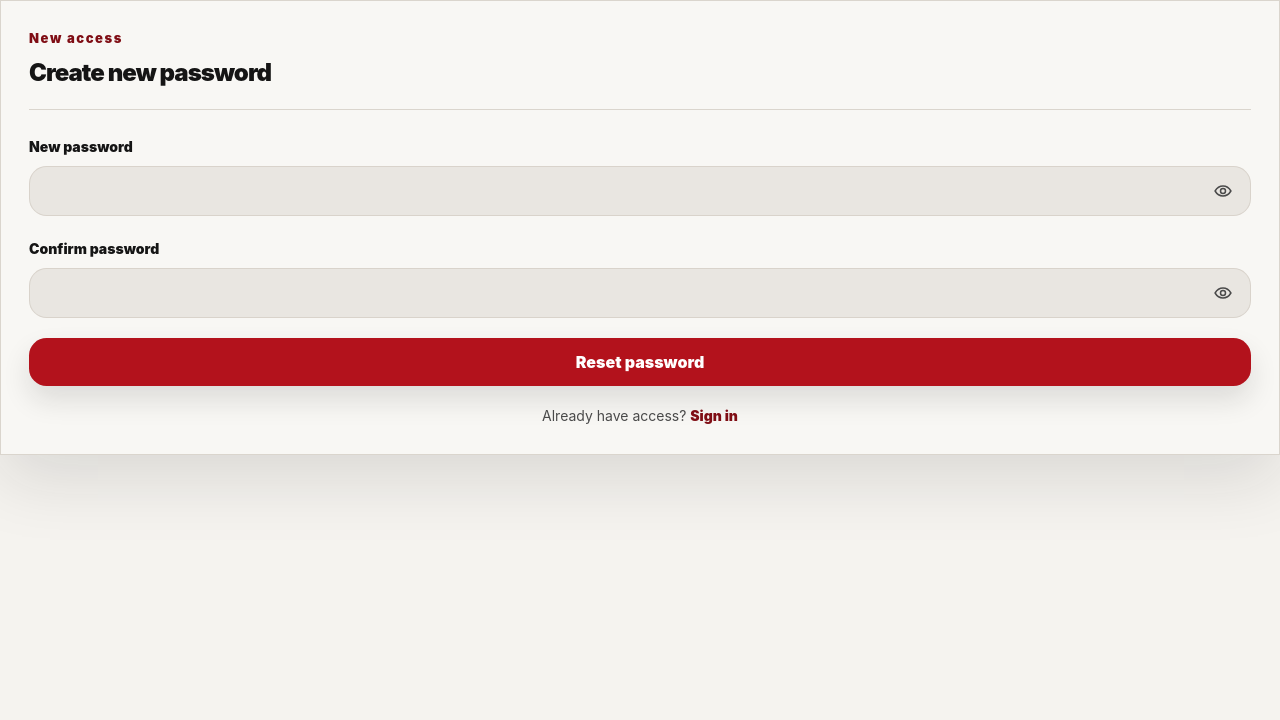
auth forms › shows reset password validation errors
Click the button "Reset password" at (640, 362), box [29,338,1251,386]
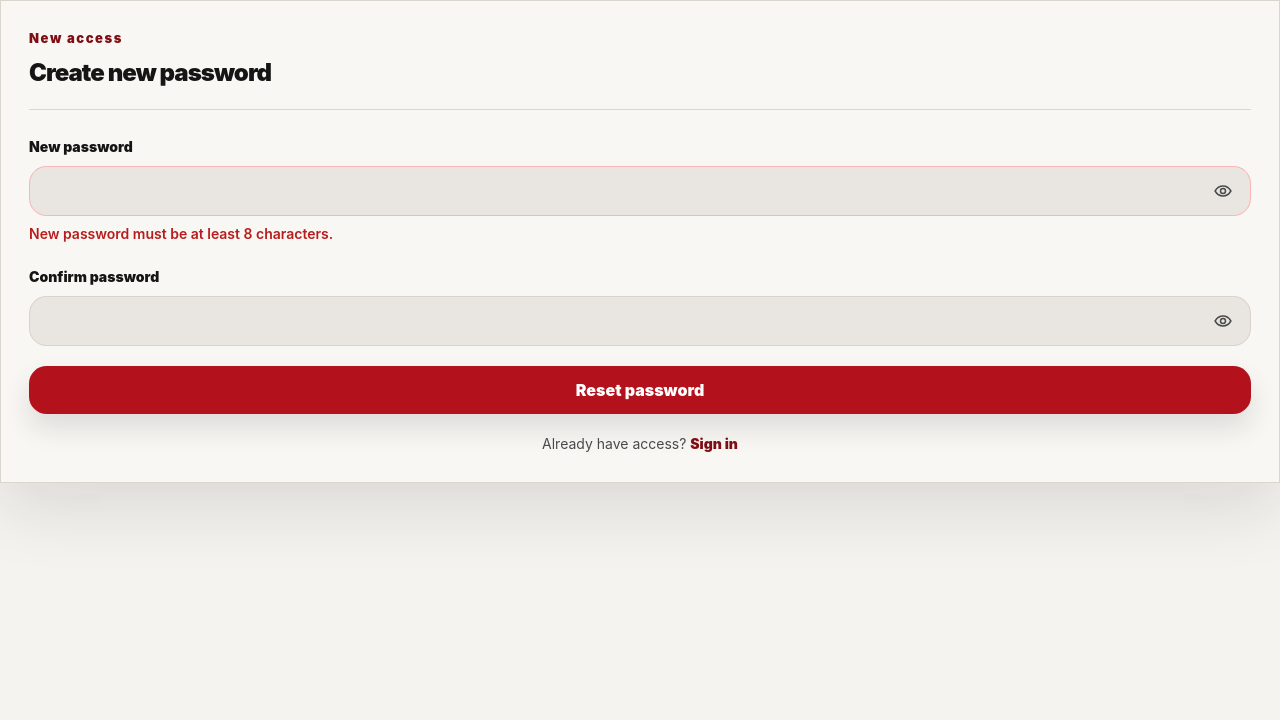
Result: the text "New password must be at least 8 characters." is shown at [29,224,333,242]
